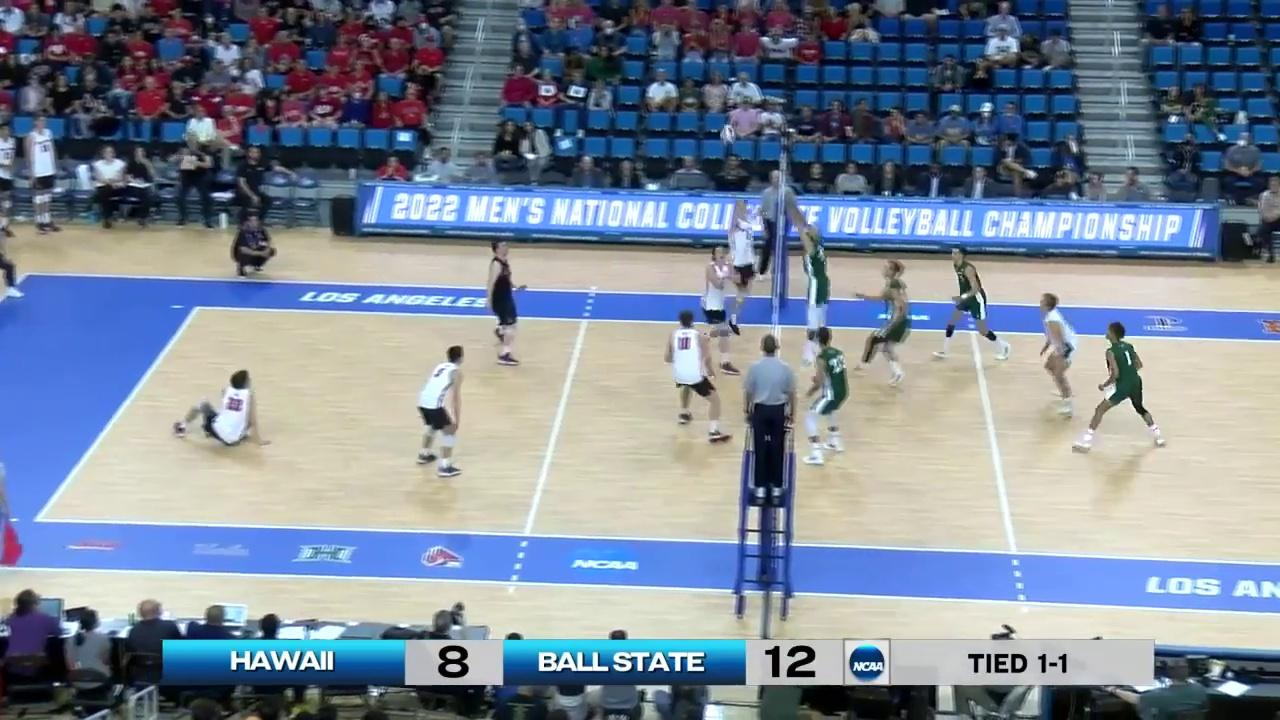player: (1076, 322, 1167, 451), (661, 309, 733, 443), (936, 247, 1009, 362), (802, 329, 854, 468), (855, 260, 911, 388), (176, 368, 264, 448), (415, 344, 465, 476), (698, 246, 740, 374), (1038, 295, 1079, 416), (801, 228, 837, 360), (484, 241, 521, 365), (728, 202, 760, 332)
refree: (742, 335, 797, 498), (757, 171, 794, 279)
